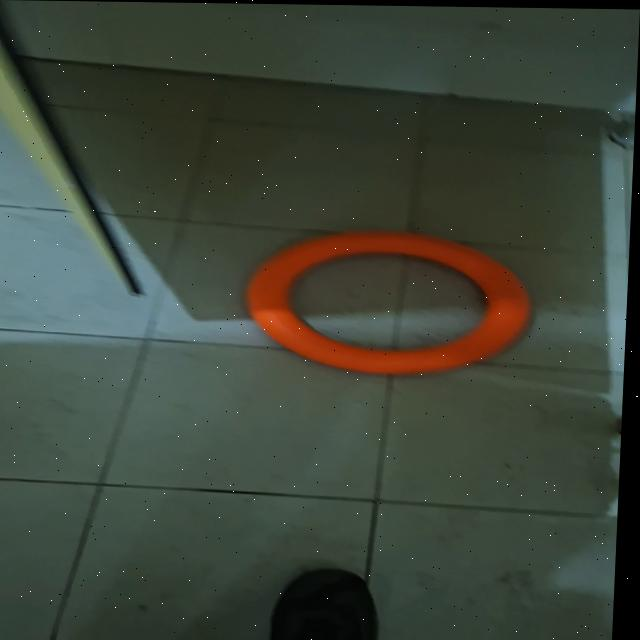note: (244, 226, 540, 376)
